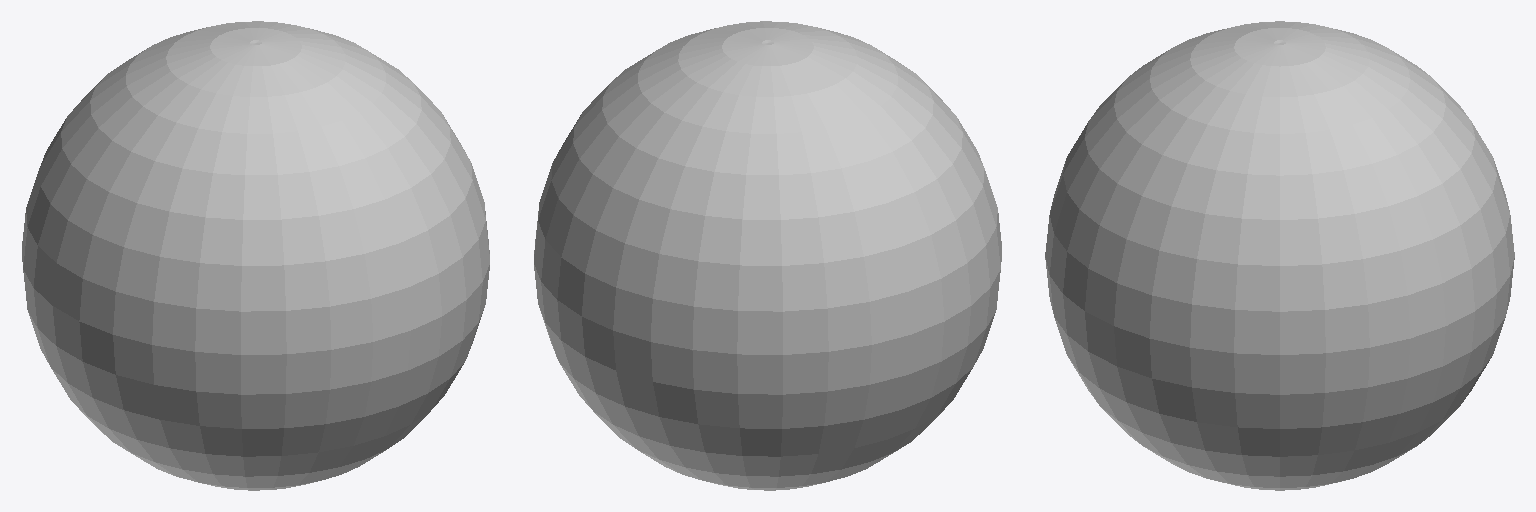
Rendered from giant.obj.
The picture shows the model from 3 angles: view 1: azimuth 30°, elevation 25°; view 2: azimuth 150°, elevation 25°; view 3: azimuth 270°, elevation 25°; orthographic projection.
Parts seen in each view (by area): view 1: Sphere; view 2: Sphere; view 3: Sphere.
Part boxes in pixels (x1,y1,x2,y2): Sphere: (22, 21, 489, 490); Sphere: (534, 21, 1001, 490); Sphere: (1045, 21, 1514, 490).
Size of the model in its own units: 4.06 by 4.06 by 4.06.